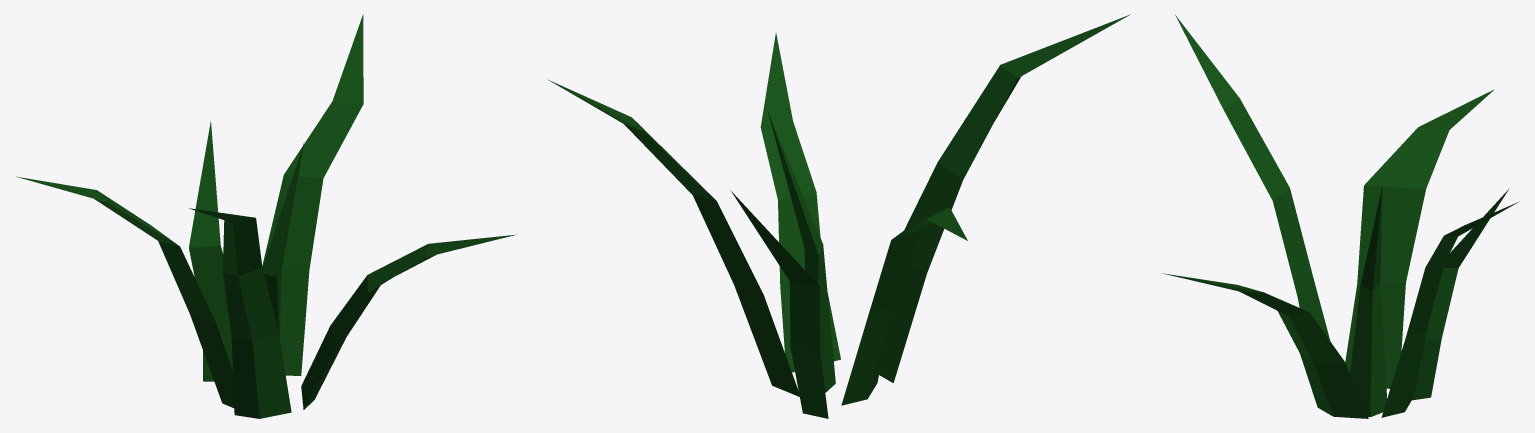
The model's file is low_grass.fbx.
The picture shows the model from 3 angles, left to right: view 1: azimuth 30°, elevation 25°; view 2: azimuth 150°, elevation 25°; view 3: azimuth 270°, elevation 25°; orthographic projection. The views are drawn at different scales.
Parts seen in each view (by area): view 1: grass.001; view 2: grass.001; view 3: grass.001.
Part boxes in pixels (x1,y1,x2,y2): grass.001: [16, 14, 516, 418]; grass.001: [548, 14, 1130, 418]; grass.001: [1162, 15, 1519, 418].
Bounding box in the file's own units: 156 × 182 × 149.
